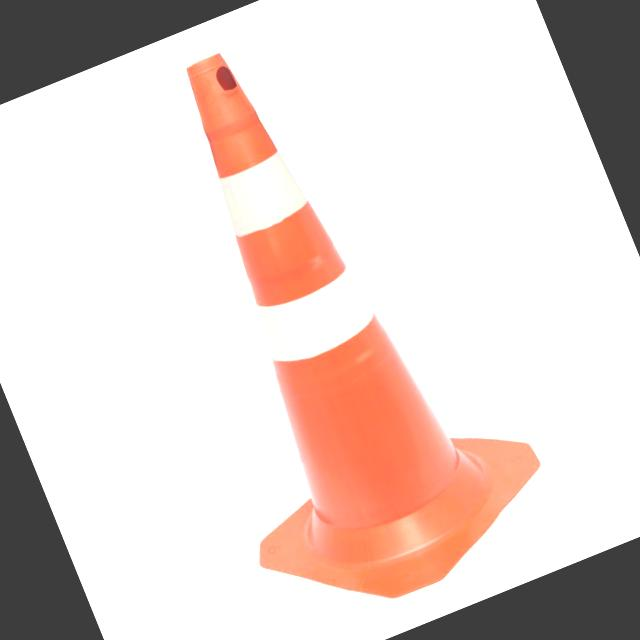cone: (87, 0, 575, 632)
